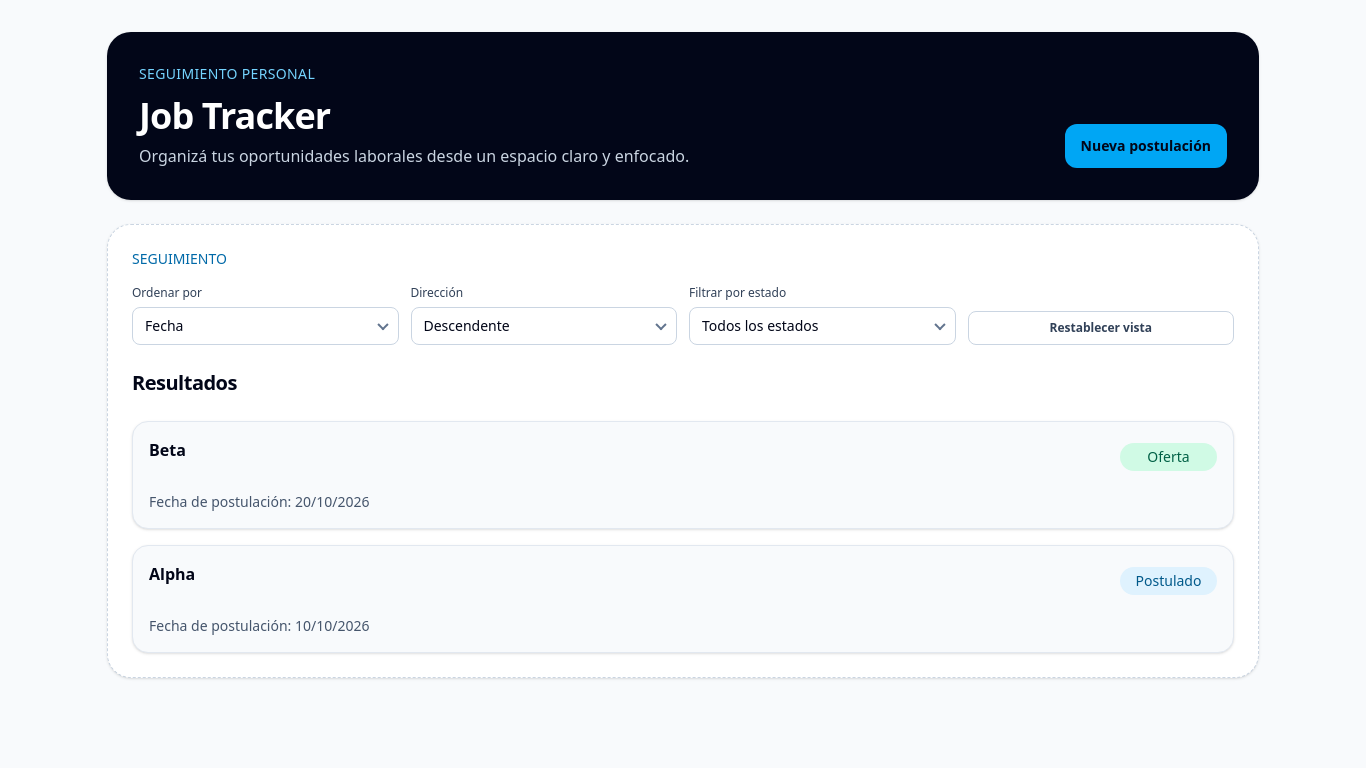
Test: App › sorts, filters, and restores the complete application list
Select "Puesto" in the dropdown labelled "Ordenar por": (265, 326) x1=132 y1=307 x2=398 y2=345
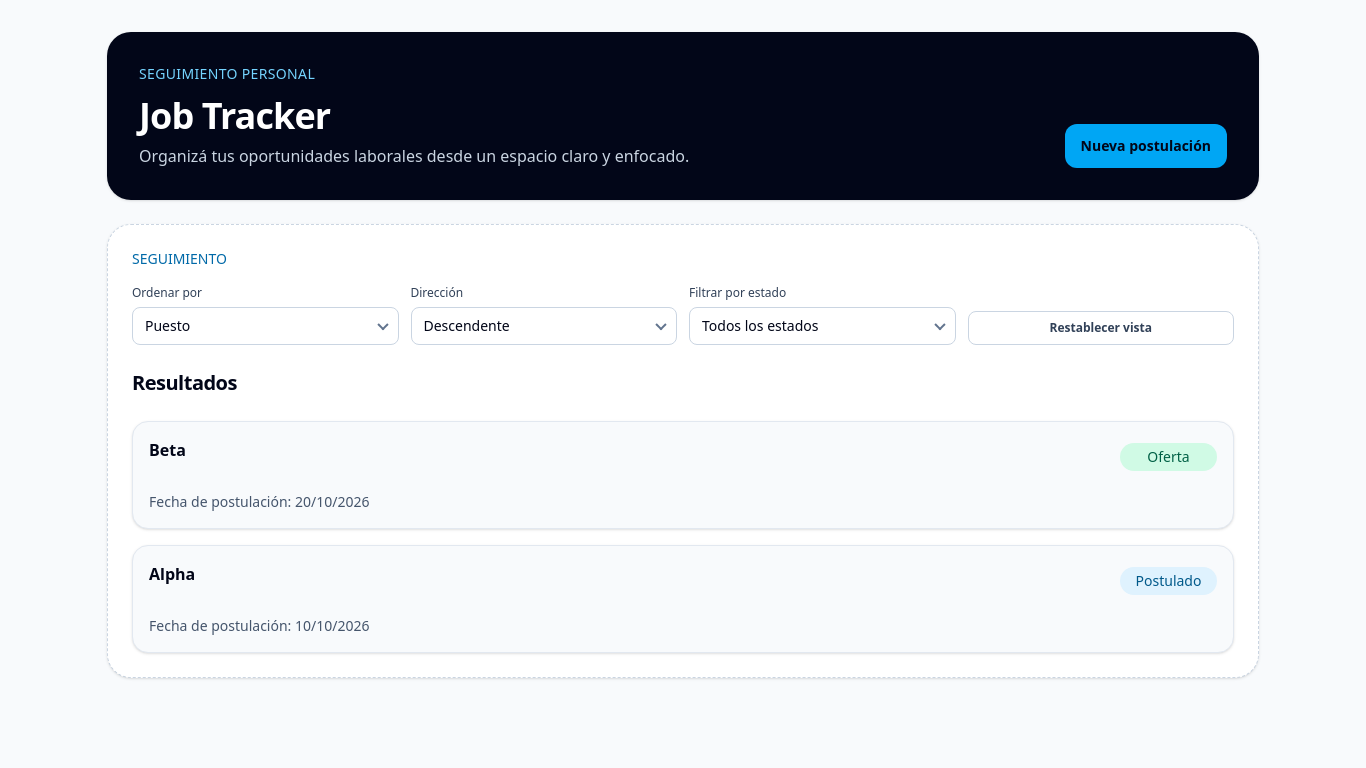
Select "Ascendente" in the dropdown labelled "Dirección": (544, 326) x1=410 y1=307 x2=677 y2=345
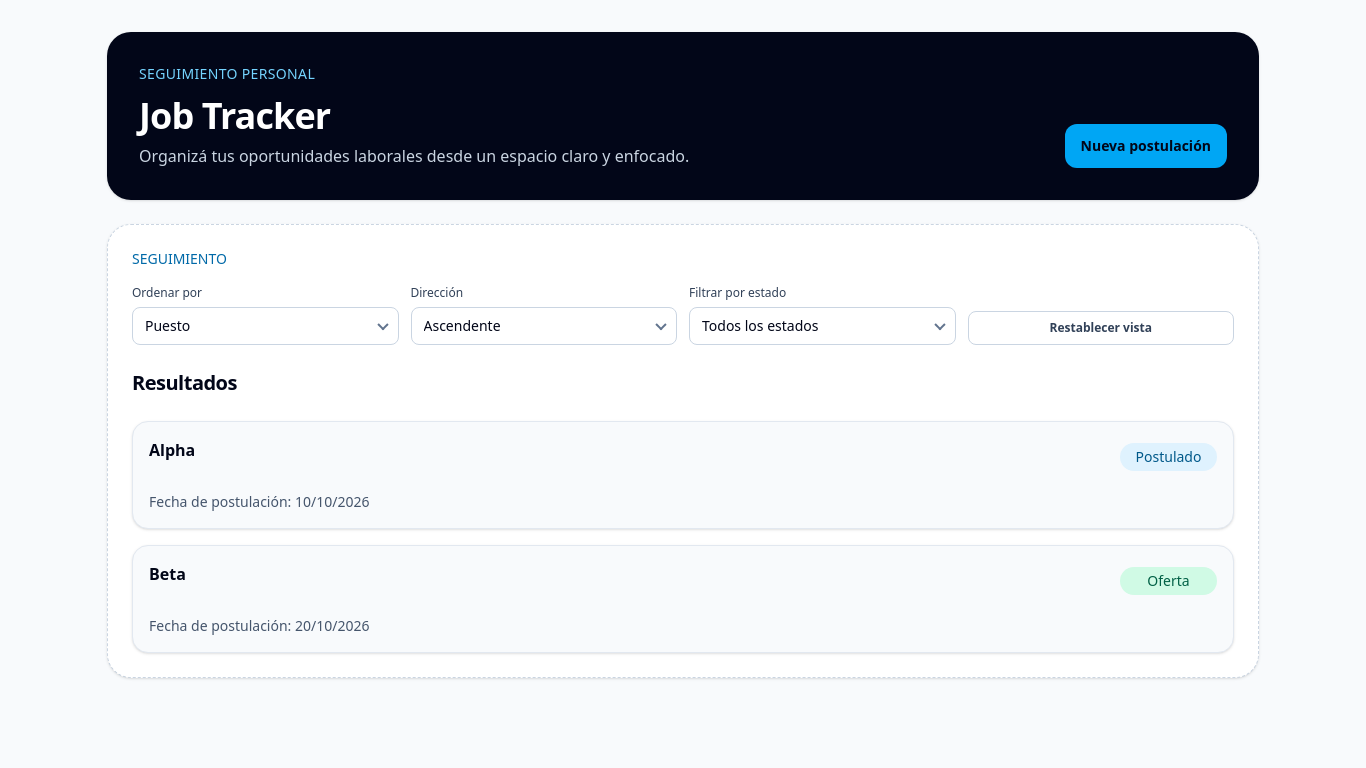
Expected: the list item "Alpha Fecha de postulación: 10/10/2026" is shown, x1=132 y1=421 x2=1234 y2=529
Select "Oferta" in the dropdown labelled "Filtrar por estado": (822, 326) x1=689 y1=307 x2=956 y2=345
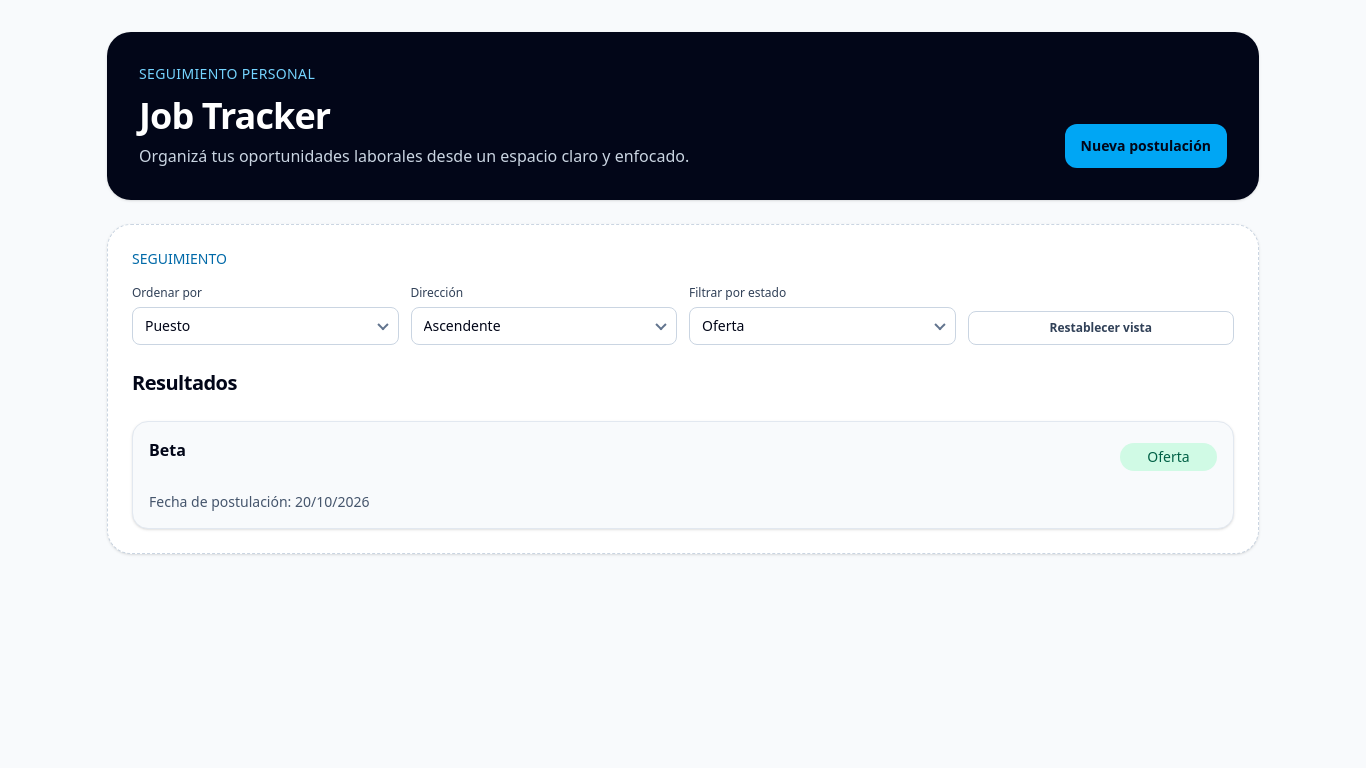
Expected: the list item shows "Beta", x1=149 y1=439 x2=186 y2=461
Expected: the number of list items is 1, x1=132 y1=421 x2=1234 y2=529
Click the button "Restablecer vista": (1101, 328) x1=968 y1=311 x2=1234 y2=345
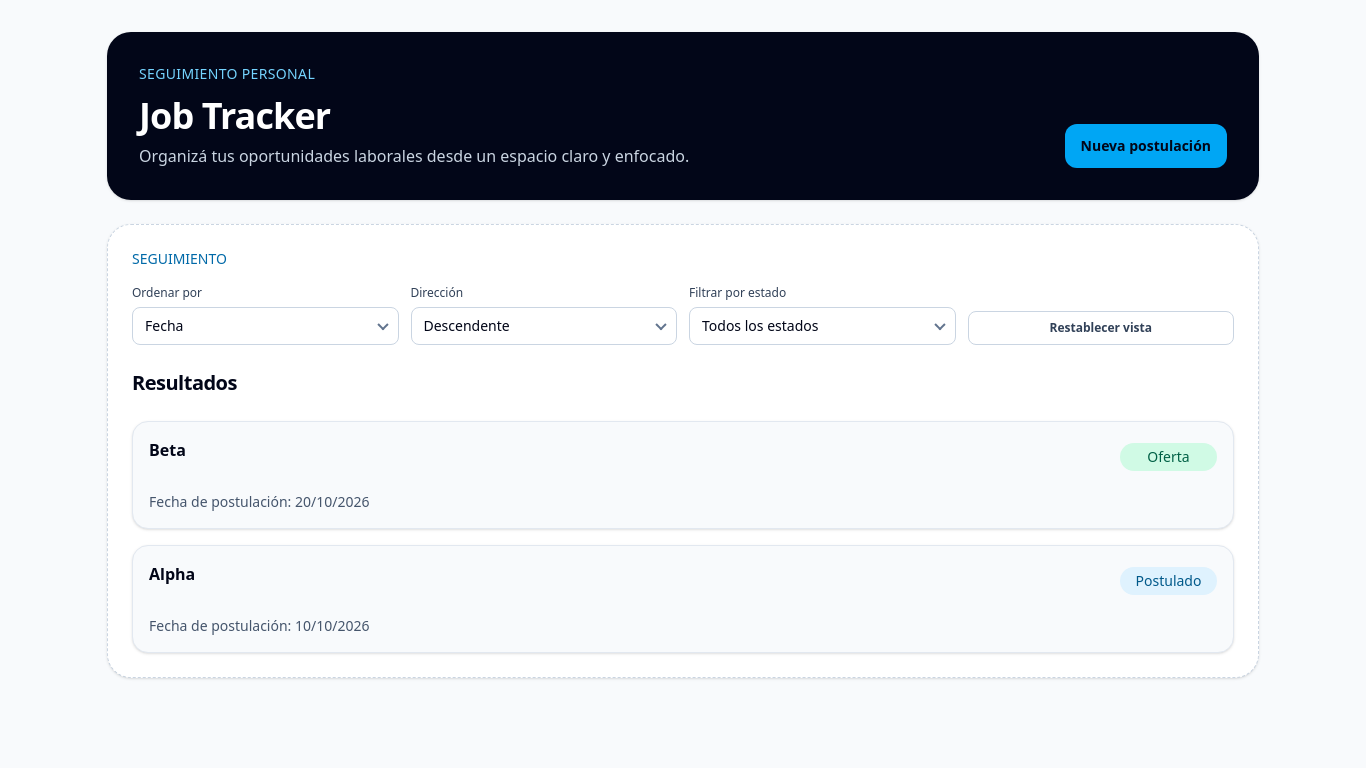
Expected: the list item "Beta Fecha de postulación: 20/10/2026" is shown, x1=132 y1=421 x2=1234 y2=529
Expected: the number of list items is 2, x1=132 y1=421 x2=1234 y2=529; x1=132 y1=545 x2=1234 y2=653
